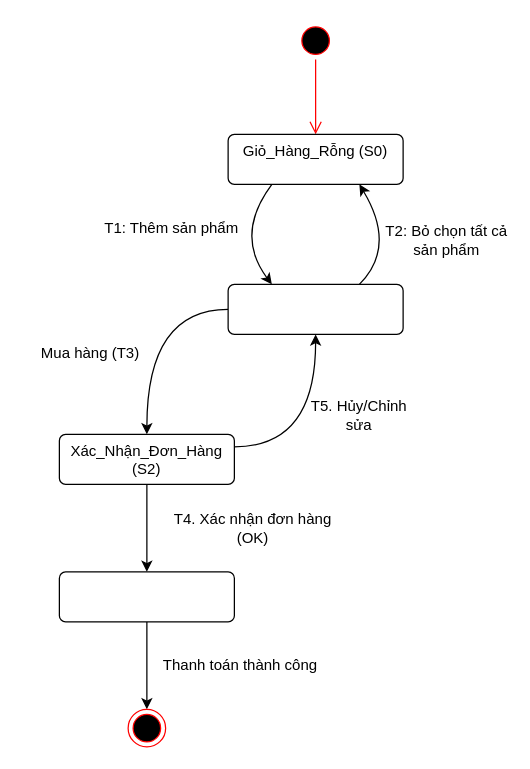
Image size: 530x769. Some labels were removed from this diagram. Each missing label, with the box of its shape:
Giỏ_hàng_Có_Hàng S1): (227, 283, 403, 334)
Thanh_toán (S3): (58, 571, 234, 622)
